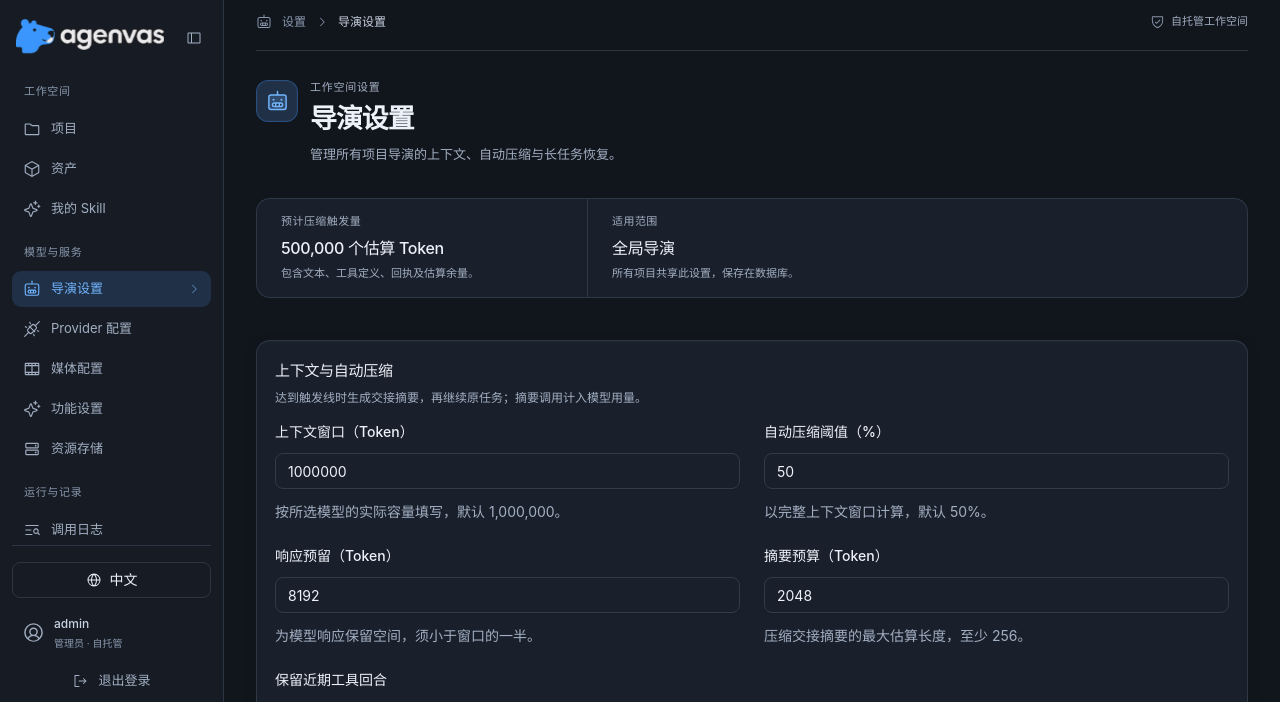
it: DirectorSettingsPage › requires an explicit latest-version load after a conflict
The width and height of the screenshot is (1280, 702).
Replace the text in the number field labelled "上下文窗口（Token）" with "750000" at (508, 471), box [275,453,740,489]
(page scrolled)
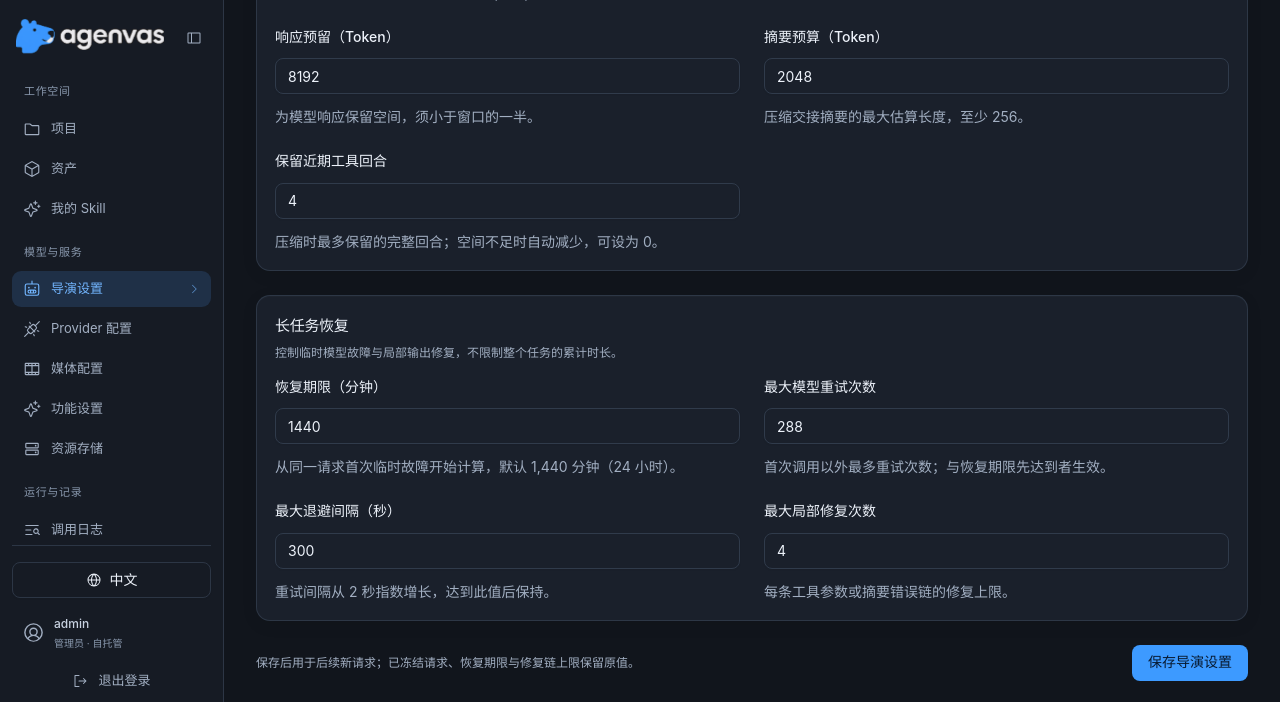
Click the button "保存导演设置".
click(1190, 662)  # box [1132,644,1248,680]
(page scrolled)
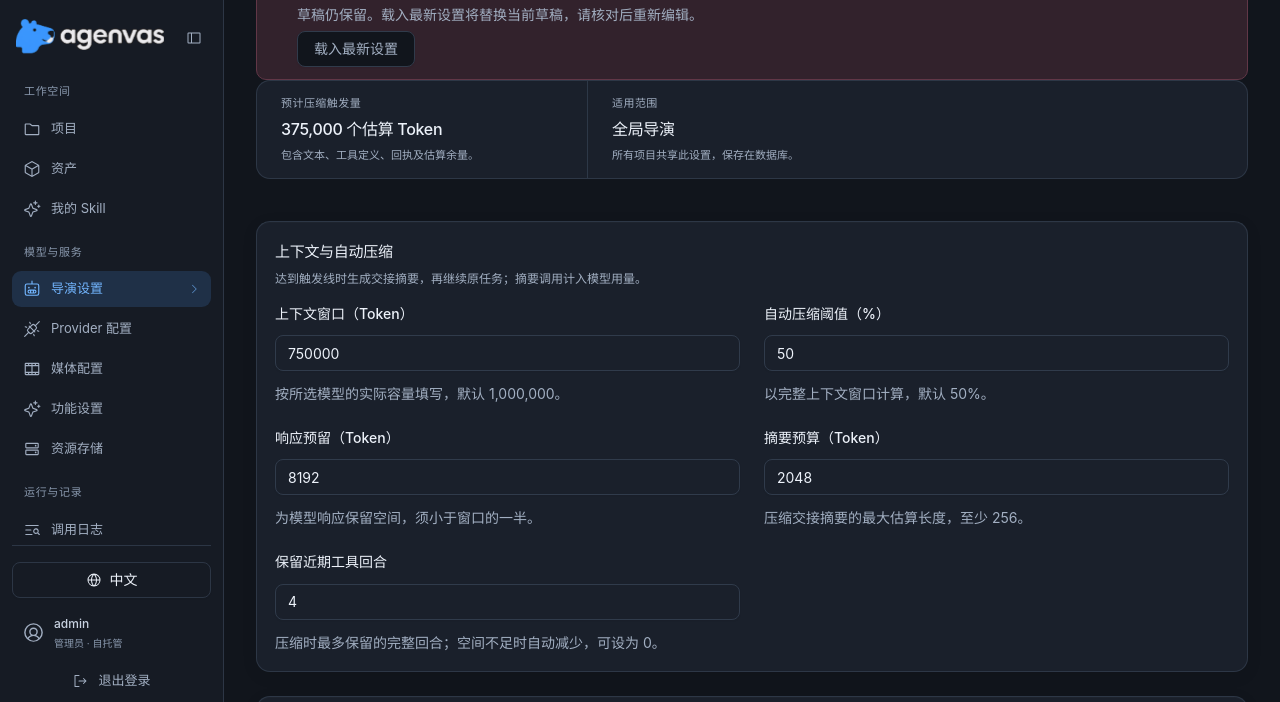
Replace the text in the number field labelled "自动压缩阈值（%）" with "60" at (996, 353), box [764,335,1229,371]
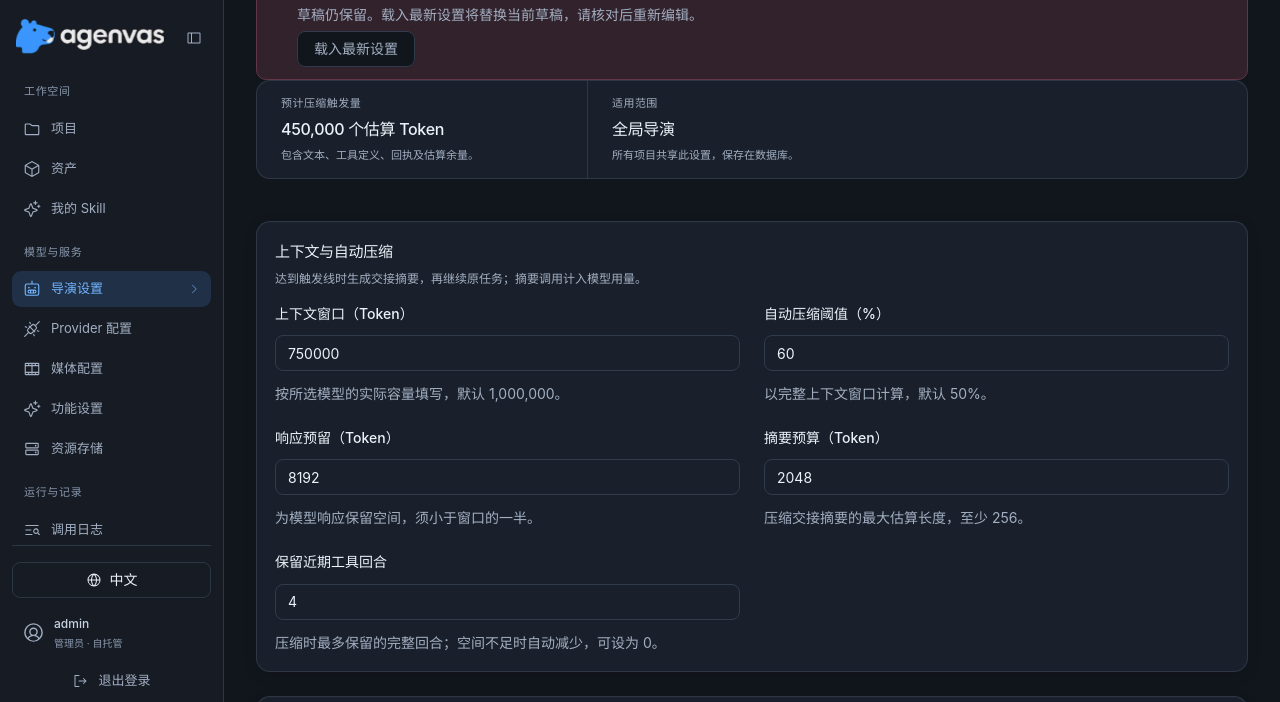
Click the button "载入最新设置".
click(356, 49)  # box [297,31,415,67]
(page scrolled)
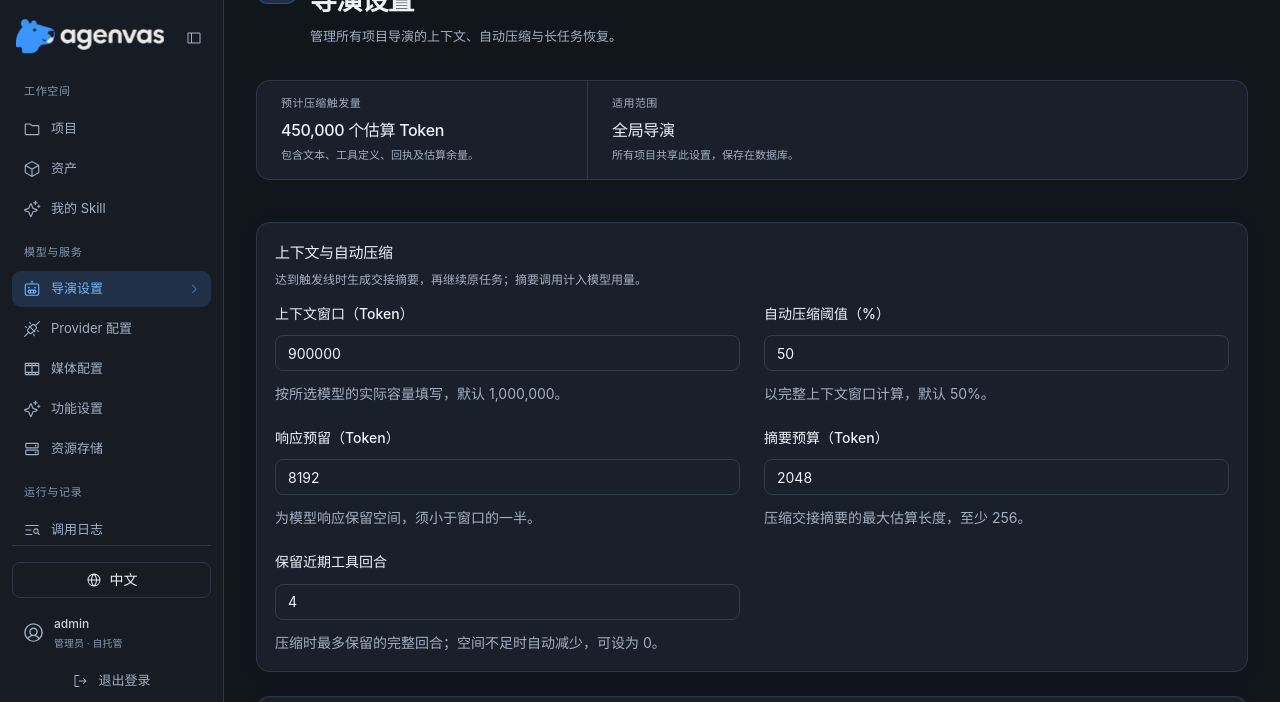
expect the number field labelled "上下文窗口（Token）" holds "900000": met, box [275,335,740,371]
expect the number field labelled "自动压缩阈值（%）" holds "50": met, box [764,335,1229,371]
